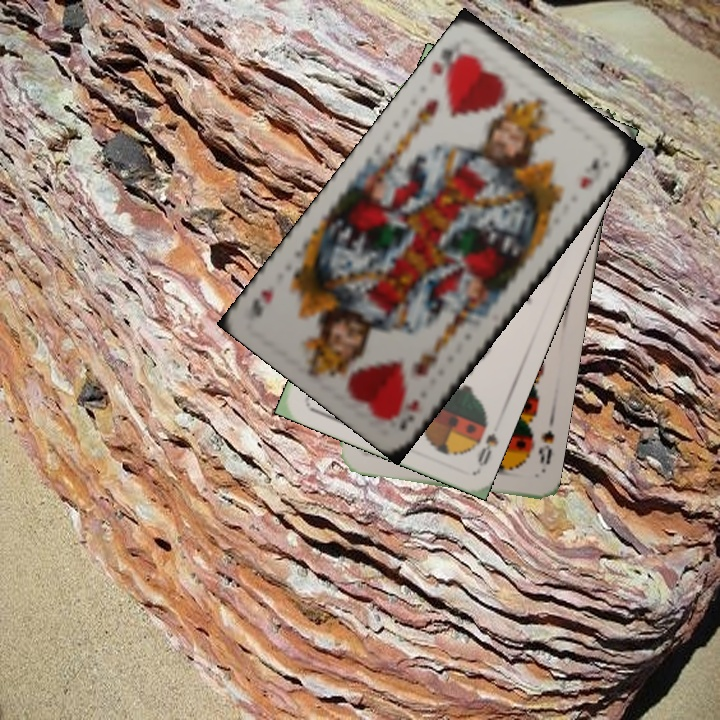HK: (428, 45, 471, 88), (395, 395, 422, 434)
S8: (534, 426, 557, 468)
SO: (473, 428, 501, 469)
